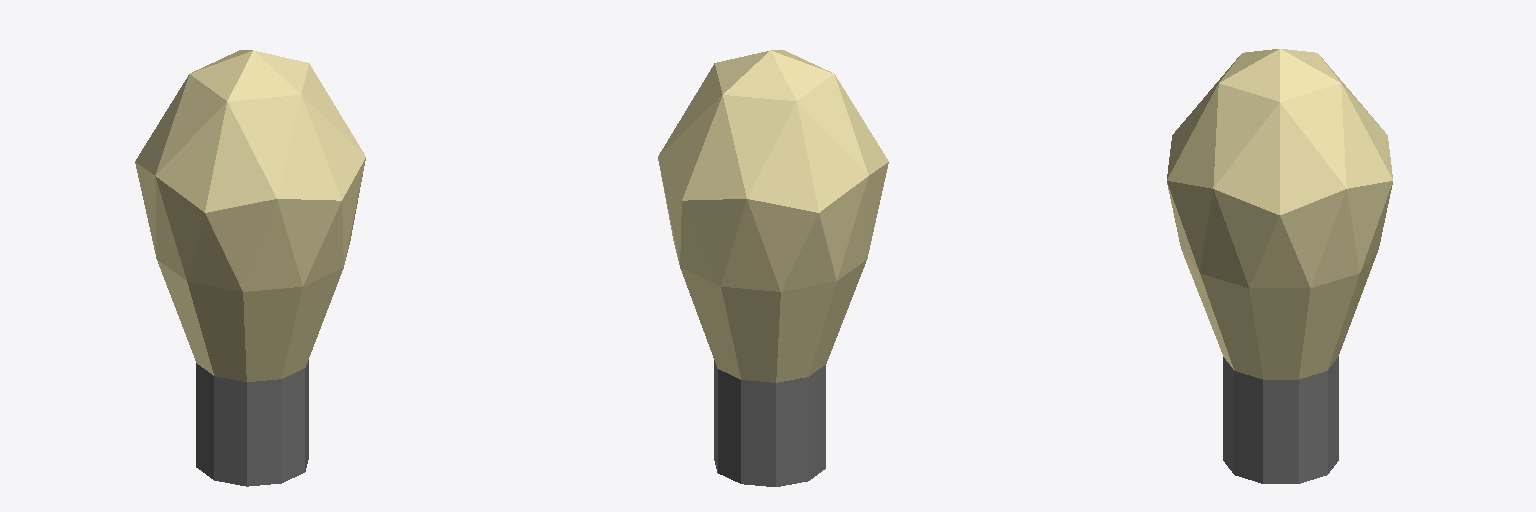
3 renders of one model, left to right at view 1: azimuth 30°, elevation 25°; view 2: azimuth 150°, elevation 25°; view 3: azimuth 270°, elevation 25°, orthographic.
Parts seen in each view (by area): view 1: Icosphere; view 2: Icosphere; view 3: Icosphere.
Boxes of the visible parts, box(x1,y1,x2,y2) form: Icosphere: box(135, 50, 365, 486); Icosphere: box(658, 50, 888, 486); Icosphere: box(1167, 49, 1392, 483).
Size of the model in its own units: 1.9 by 3.72 by 1.85.
Materials: 3 (2 with a texture image).